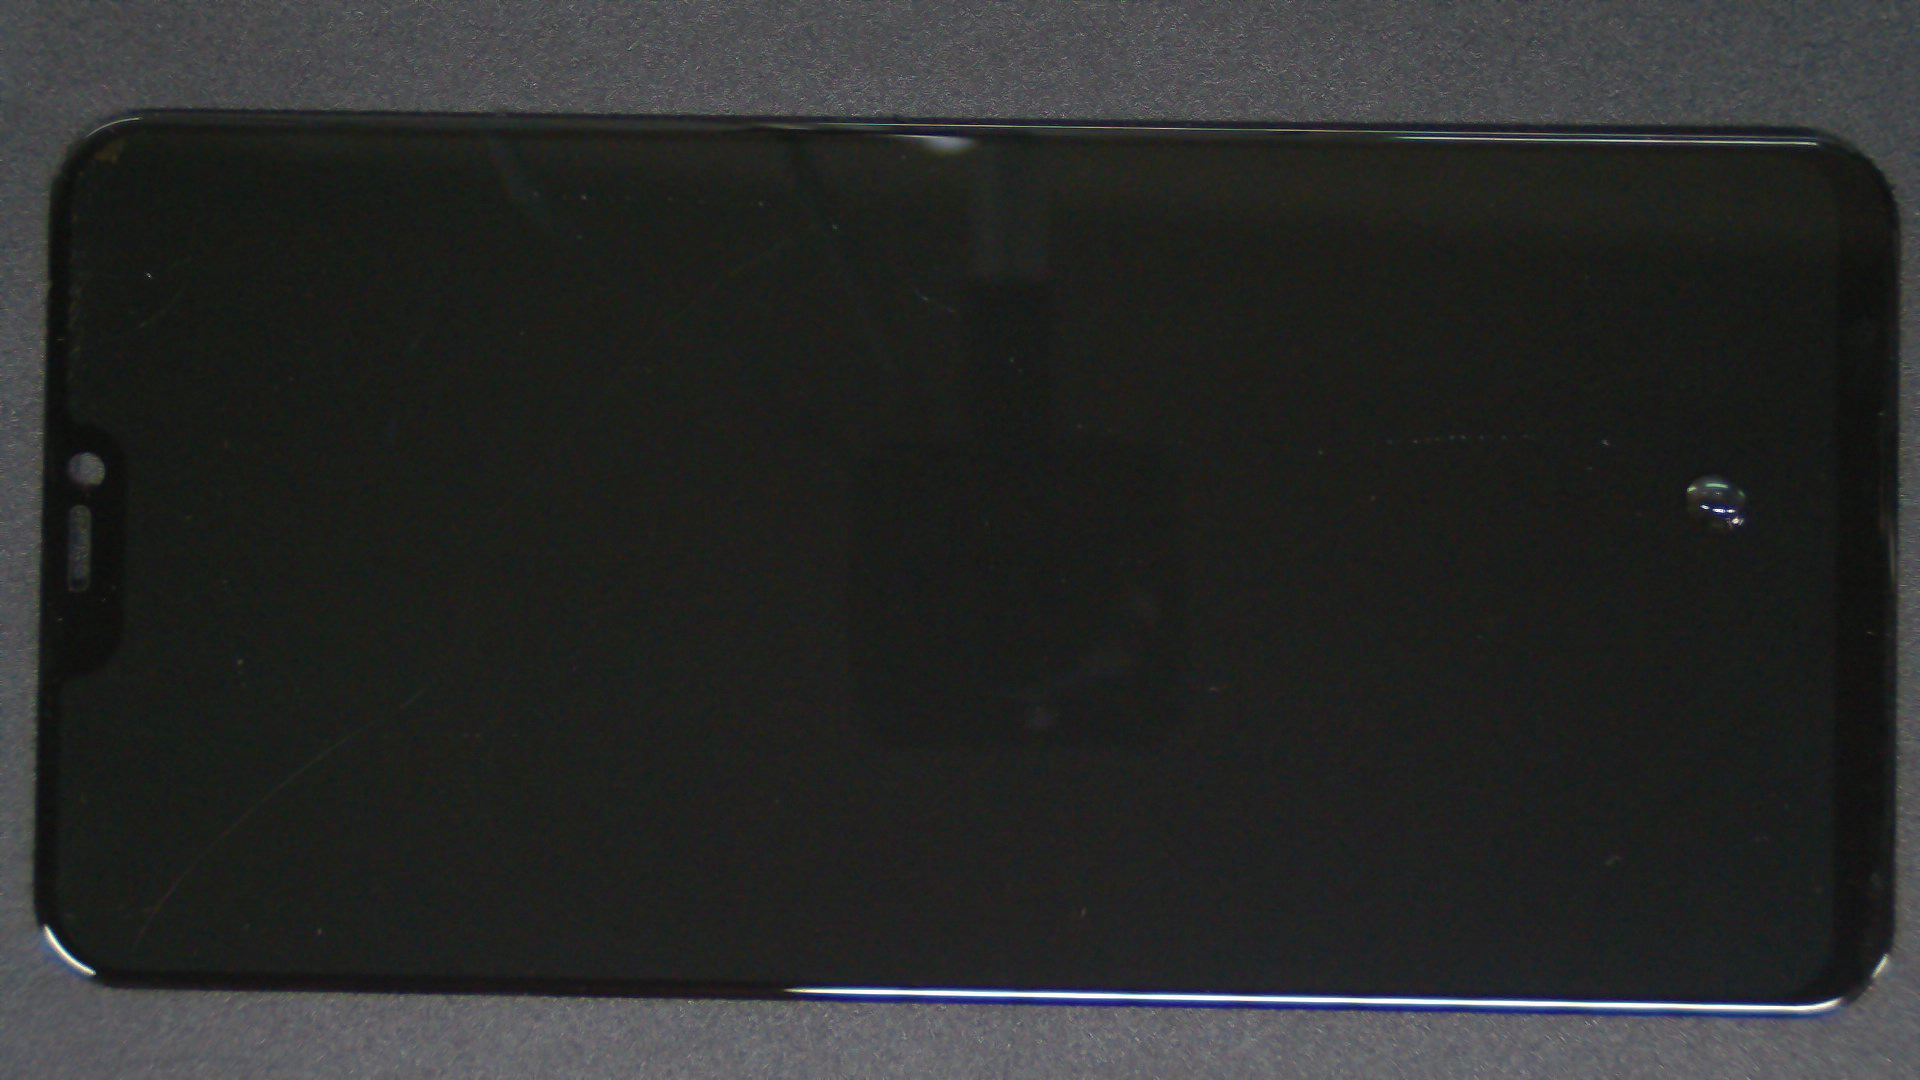defect: (1685, 477, 1745, 530)
